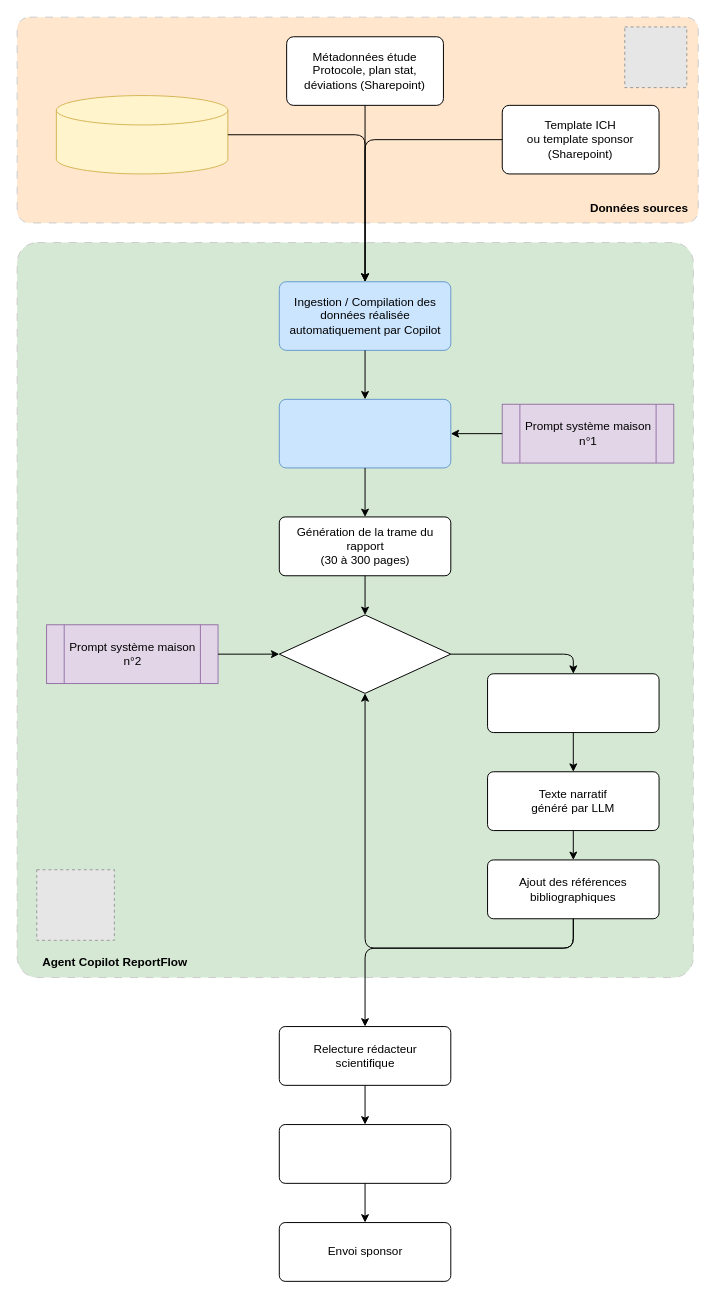
The diagram is 715 pixels wide and 1299 high, and some of its shapes have lost their labels. Grey dashed boxes stand in for pictures. The box of each missing label's shape, as (x1, y1, x2, y2) in pixels:
Appel via API du LLM commercial GPT-5.1: (278, 398, 451, 468)
LIMS Données analytiques validées: (55, 95, 228, 174)
Pour les différentes sections du rapport: (278, 614, 451, 693)
Tableaux et figures du module stat commentés par LLM: (487, 673, 659, 733)
Vérification Directeur d'Etudes: (278, 1124, 451, 1183)
